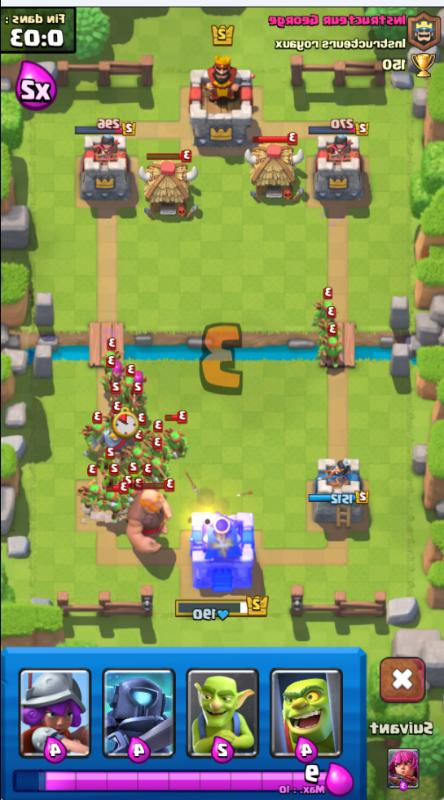archere: (127, 369, 145, 403), (106, 357, 125, 389)
chevalier: (90, 429, 128, 452)
geant: (125, 475, 176, 558)
gobelin: (101, 469, 126, 493), (95, 450, 118, 476)
gobelin_lances: (318, 335, 345, 374), (311, 296, 340, 331), (166, 425, 190, 461), (81, 417, 104, 453), (316, 319, 342, 347), (80, 481, 100, 516), (149, 456, 174, 481), (101, 349, 122, 374), (107, 488, 121, 523), (150, 430, 168, 457), (142, 470, 163, 493), (149, 443, 170, 465), (128, 446, 149, 468), (122, 374, 136, 401), (104, 409, 122, 430), (101, 367, 114, 395), (129, 481, 144, 505), (135, 424, 148, 444), (137, 426, 148, 448)
